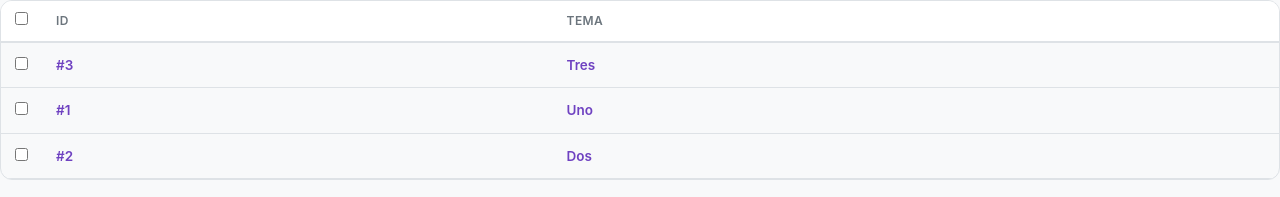
Test: TicketsTableView — sort by ID (#112) › shows descending indicator (↓) after second click
The width and height of the screenshot is (1280, 197).
Click the column heading "ID" at (62, 20), box [42,1,553,42]
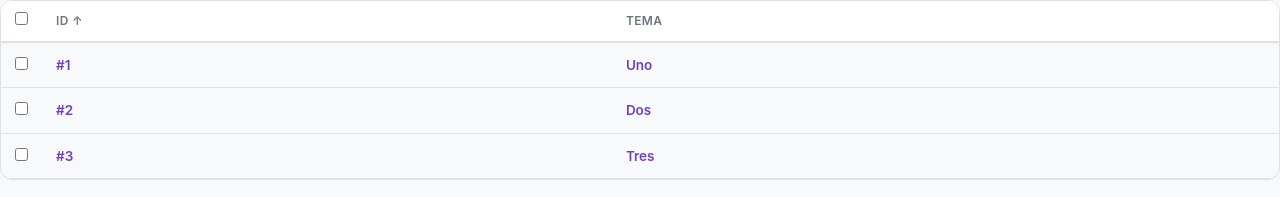
Click the column heading "ID ↑" at (62, 20), box [42,1,612,42]
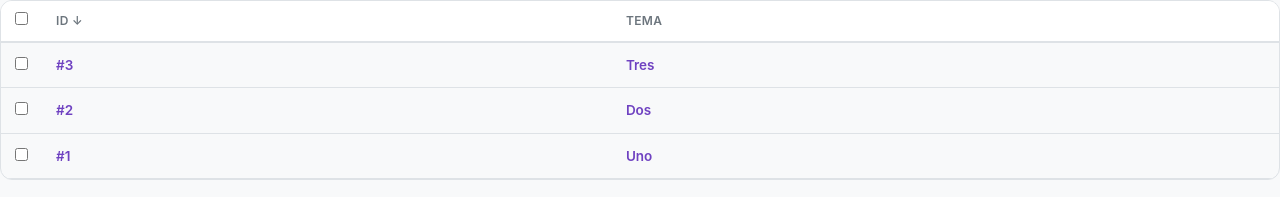
Expected: the column heading "ID ↓" is shown, [42,1,612,42]
